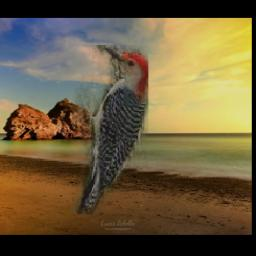Woodpecker: (73, 45, 149, 214)
